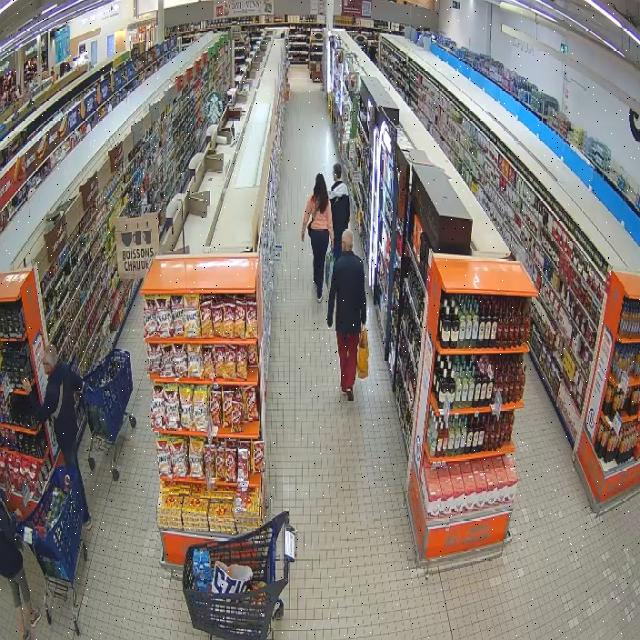bags: (357, 328, 369, 379), (325, 245, 334, 286), (308, 199, 318, 234)
hands: (21, 378, 32, 394), (13, 508, 22, 521), (328, 235, 334, 252), (328, 315, 332, 327), (301, 230, 305, 242), (361, 323, 365, 332)
person: (22, 345, 90, 528), (328, 229, 366, 400), (0, 498, 40, 639), (301, 174, 333, 302), (330, 164, 349, 258)
